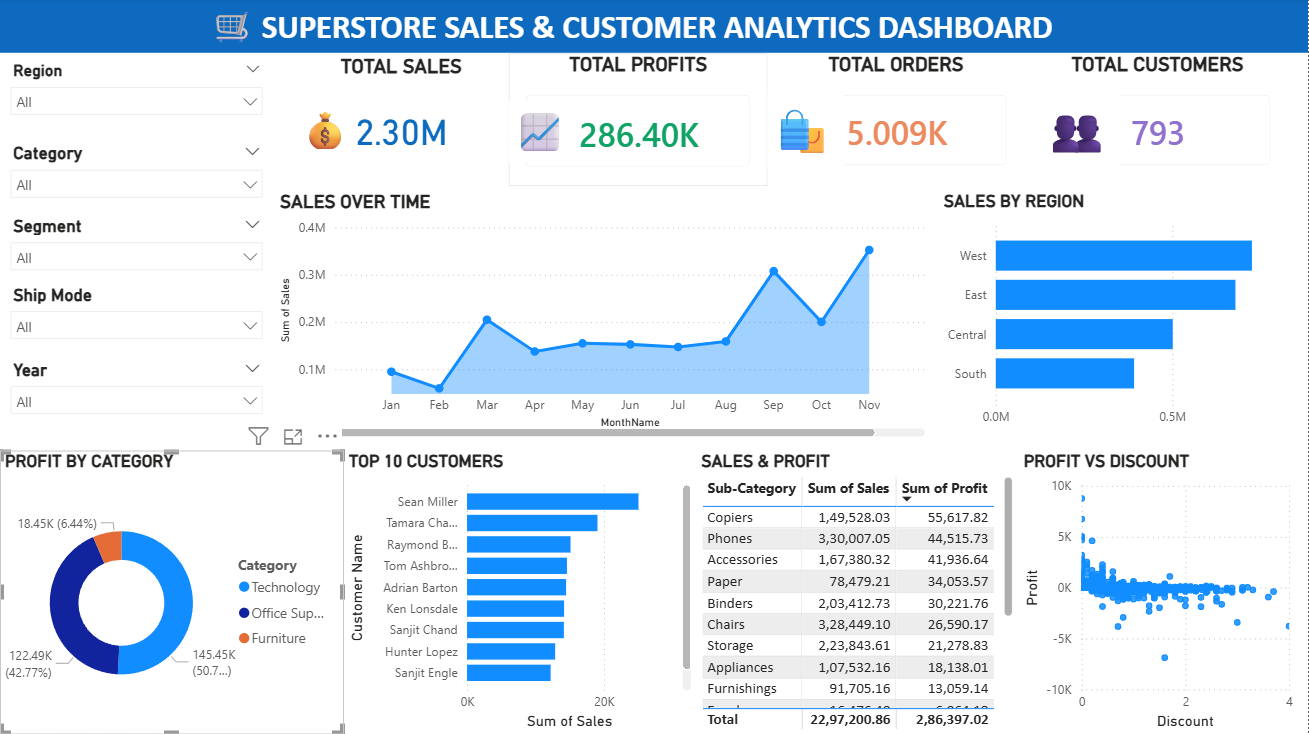

What the dashboard file says about the page in this screenshot:
{"tool":"powerbi","page":{"name":"Page 1","canvas":[1280,720],"ordinal":0},"visuals":[{"type":"card","title":"TOTAL SALES","fields":{"Values":["Sum(Superstore.Sales)"]},"box":[266.6,56.3,252,121.1],"z":0},{"type":"cardVisual","title":"TOTAL PROFITS","fields":{"Data":["Sum(Superstore.Profit)"]},"box":[497.7,53.8,253.1,129.6],"z":1000},{"type":"cardVisual","title":"TOTAL ORDERS","fields":{"Data":["Count(Superstore.Order ID)"]},"box":[751.3,53.9,251.3,127.6],"z":2000},{"type":"cardVisual","title":"TOTAL CUSTOMERS","fields":{"Data":["Count(Superstore.Customer Name)"]},"box":[1003.9,53.8,256.8,127.2],"z":3000},{"type":"slicer","fields":{"Values":["Superstore.Region"]},"box":[0,57.9,267.1,78.9],"z":4000},{"type":"slicer","fields":{"Values":["Superstore.Category"]},"box":[0,136.8,267.1,71.1],"z":5000},{"type":"slicer","fields":{"Values":["Superstore.Segment"]},"box":[0,207.9,267.1,67.1],"z":6000},{"type":"slicer","fields":{"Values":["Superstore.Ship Mode"]},"box":[0,275,267.1,75],"z":7000},{"type":"lineChart","title":"SALES OVER TIME","fields":{"Y":["Sum(Superstore.Sales)","select"],"Category":["Superstore.MonthName"]},"box":[268.4,188.2,640.8,246.1],"z":8000},{"type":"slicer","fields":{"Values":["Superstore.Year"]},"box":[0,348.7,267.1,78.9],"z":9000},{"type":"barChart","title":"SALES BY REGION","fields":{"Category":["Superstore.Region"],"Y":["Sum(Superstore.Sales)"]},"box":[918.4,188.2,351.3,239.5],"z":10000},{"type":"donutChart","title":"PROFIT BY CATEGORY","fields":{"Category":["Superstore.Category"],"Y":["Sum(Superstore.Profit)"]},"box":[0,442.1,336.8,277.6],"z":11000},{"type":"barChart","title":"TOP 10 CUSTOMERS","fields":{"Category":["Superstore.Customer Name"],"Y":["Sum(Superstore.Sales)"]},"box":[336.8,442.1,344.7,277.6],"z":12000},{"type":"tableEx","title":"SALES & PROFIT","fields":{"Values":["Superstore.Sub-Category","Sum(Superstore.Sales)","Sum(Superstore.Profit)"]},"box":[681.6,442.1,314.5,277.6],"z":13000},{"type":"scatterChart","title":"PROFIT VS DISCOUNT","fields":{"Category":["Superstore.Order ID"],"X":["Sum(Superstore.Discount)"],"Y":["Sum(Superstore.Profit)"]},"box":[996.1,442.1,273.7,277.6],"z":14000},{"type":"textbox","box":[0,0,1280.3,53.8],"z":15000},{"type":"textbox","box":[287.4,97.8,62.4,63.6],"z":16000},{"type":"textbox","box":[497.7,100.3,63.6,61.1],"z":17000},{"type":"textbox","box":[750.8,94.2,74.6,72.1],"z":18000},{"type":"textbox","box":[1016.2,86.8,78.3,79.5],"z":19000}]}

Visuals, with their boxes in screenshot pixels (x1, y1, x2, y2), scaled from the page's 1280x720 canvas onto the 1309x734 screenshot:
"TOTAL SALES" card: <box>273,57,530,181</box>
"TOTAL PROFITS" cardVisual: <box>509,55,768,187</box>
"TOTAL ORDERS" cardVisual: <box>768,55,1025,185</box>
"TOTAL CUSTOMERS" cardVisual: <box>1027,55,1289,185</box>
slicer - Superstore.Region: <box>0,59,273,139</box>
slicer - Superstore.Category: <box>0,139,273,212</box>
slicer - Superstore.Segment: <box>0,212,273,280</box>
slicer - Superstore.Ship Mode: <box>0,280,273,357</box>
"SALES OVER TIME" lineChart: <box>274,192,930,443</box>
slicer - Superstore.Year: <box>0,355,273,436</box>
"SALES BY REGION" barChart: <box>939,192,1298,436</box>
"PROFIT BY CATEGORY" donutChart: <box>0,451,344,733</box>
"TOP 10 CUSTOMERS" barChart: <box>344,451,697,733</box>
"SALES & PROFIT" tableEx: <box>697,451,1019,733</box>
"PROFIT VS DISCOUNT" scatterChart: <box>1019,451,1299,733</box>
textbox: <box>0,0,1308,55</box>
textbox: <box>294,100,358,165</box>
textbox: <box>509,102,574,165</box>
textbox: <box>768,96,844,170</box>
textbox: <box>1039,88,1119,170</box>
